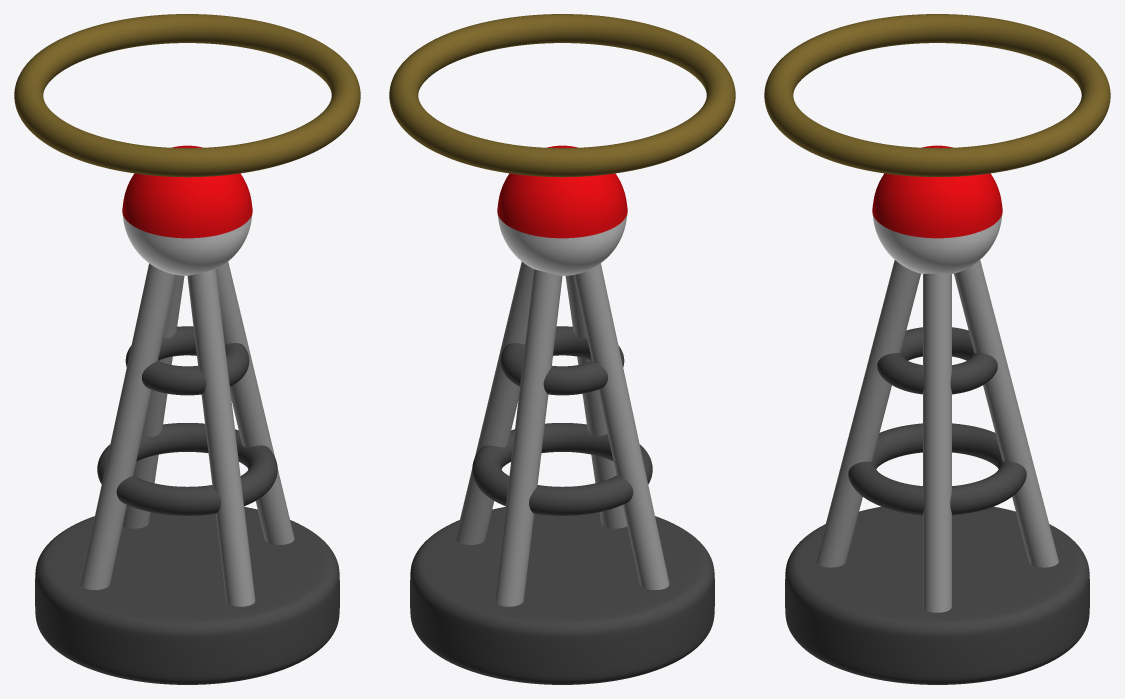
The model's file is telecom.fbx.
3 views of the same model, side by side, from view 1: azimuth 30°, elevation 25°; view 2: azimuth 150°, elevation 25°; view 3: azimuth 270°, elevation 25° (orthographic).
Parts seen in each view (by area): view 1: Cylinder.003, BézierCurve, BézierCircle.001, BézierCircle, Sphere.028, Sphere; view 2: Cylinder.003, BézierCurve, BézierCircle.001, BézierCircle, Sphere.028, Sphere; view 3: Cylinder.003, BézierCurve, BézierCircle.001, BézierCircle, Sphere.028, Sphere.
Boxes of the visible parts, x1,y1,x2,y2 form: Cylinder.003: [35, 507, 339, 684]; BézierCurve: [80, 261, 294, 606]; BézierCircle.001: [14, 14, 360, 177]; BézierCircle: [97, 326, 277, 515]; Sphere.028: [122, 145, 252, 238]; Sphere: [122, 214, 252, 275]; Cylinder.003: [410, 507, 714, 684]; BézierCurve: [455, 261, 669, 606]; BézierCircle.001: [389, 14, 735, 177]; BézierCircle: [472, 326, 652, 515]; Sphere.028: [497, 145, 627, 238]; Sphere: [497, 214, 627, 275]; Cylinder.003: [785, 506, 1089, 684]; BézierCurve: [816, 260, 1058, 612]; BézierCircle.001: [764, 14, 1110, 176]; BézierCircle: [848, 327, 1026, 515]; Sphere.028: [872, 145, 1002, 238]; Sphere: [872, 214, 1002, 273].
Size of the model in its own units: 487 by 843 by 487.
